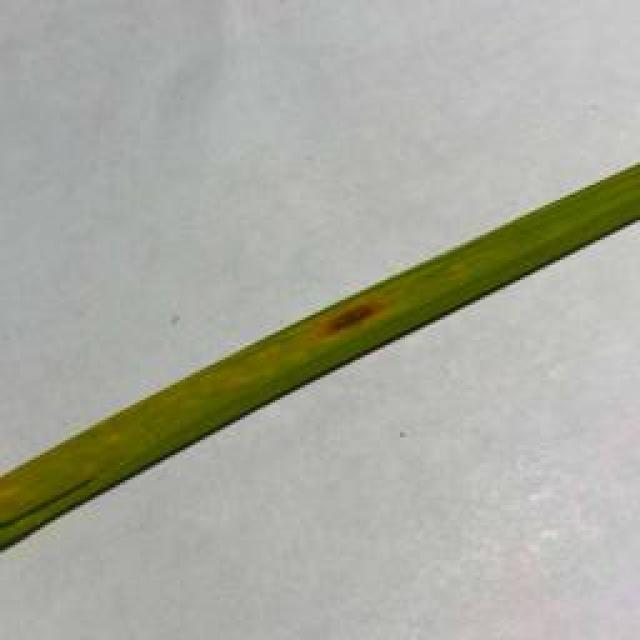Brown_Spot: (307, 288, 396, 344)
